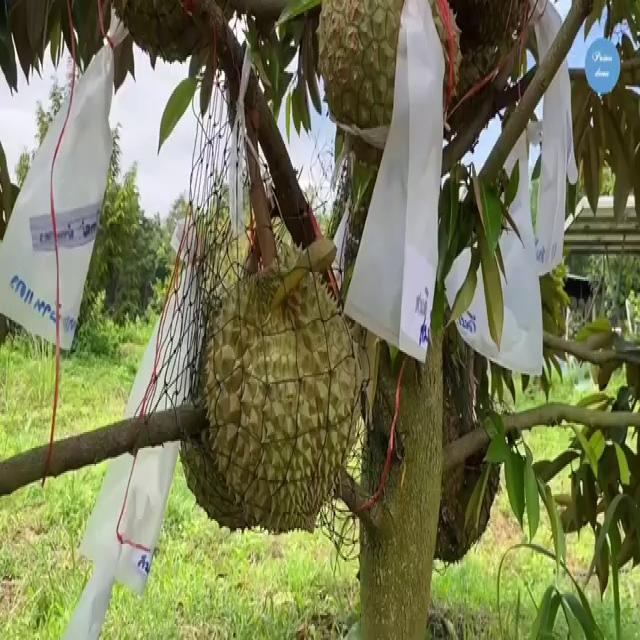durian: (203, 260, 366, 517), (311, 0, 464, 178), (404, 388, 505, 579)
